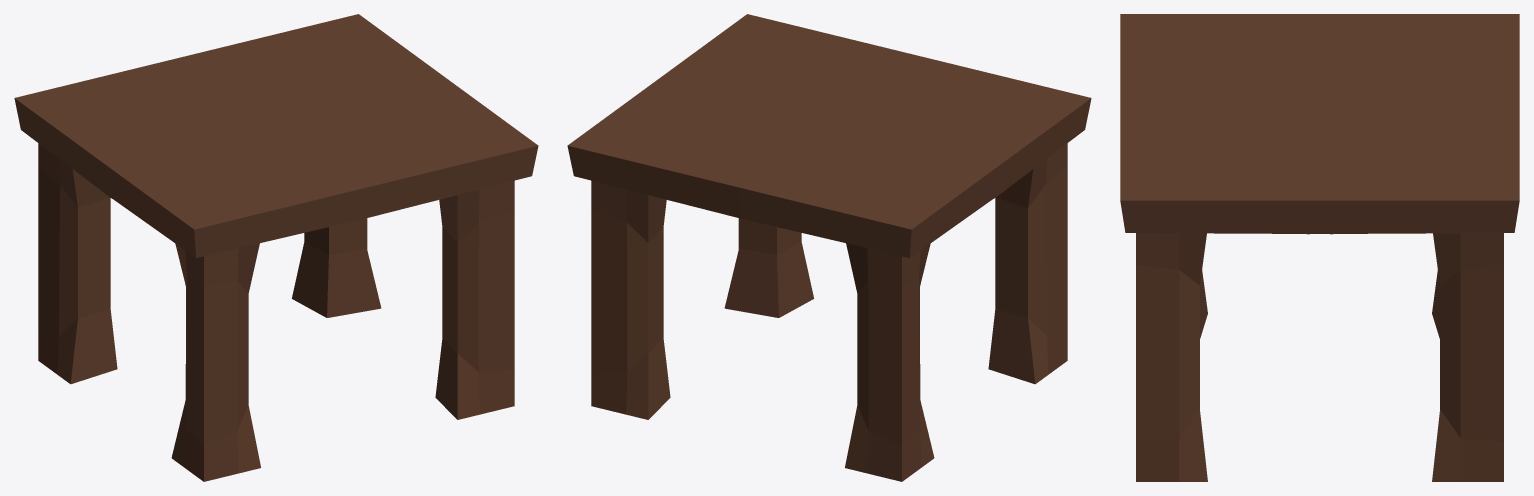
File: sideTable.glb
The picture shows the model from 3 angles, left to right: view 1: azimuth 30°, elevation 25°; view 2: azimuth 150°, elevation 25°; view 3: azimuth 270°, elevation 25°; orthographic projection. The views are drawn at different scales.
Visible parts, largest first — view 1: Cylinder; view 2: Cylinder; view 3: Cylinder.
Part boxes in pixels (<box>): Cylinder: <box>14,14,538,481</box>; Cylinder: <box>567,14,1091,481</box>; Cylinder: <box>1120,14,1519,481</box>.
Bounding box in the file's own units: 0.5864 × 0.4258 × 0.5307.
1 material, 1 textured.
